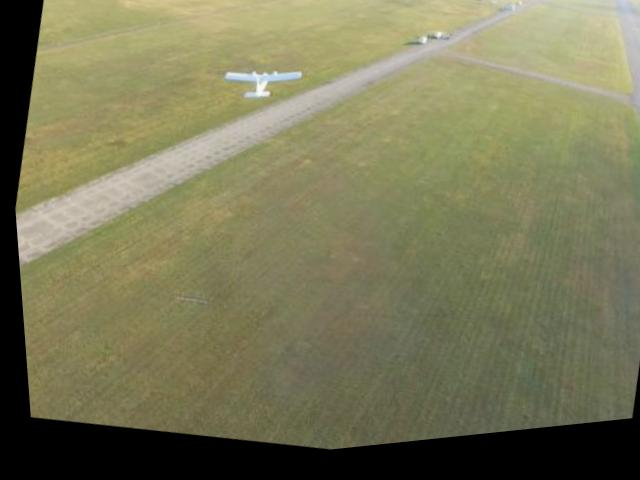uav: (214, 58, 304, 120)
